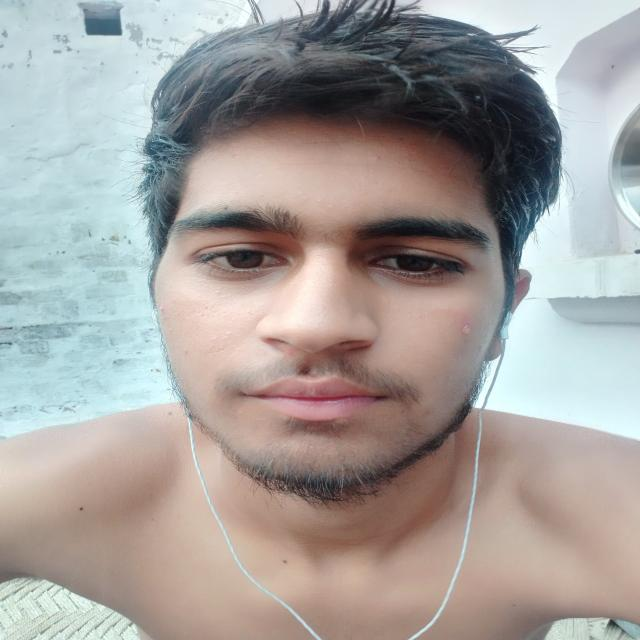Acne: (213, 288, 230, 301), (156, 302, 167, 316), (419, 408, 432, 418), (279, 351, 300, 357), (166, 327, 176, 335), (376, 155, 382, 159)
Eyebags: (456, 320, 475, 338)
Wrinkles: (264, 138, 392, 146), (258, 160, 373, 168)
